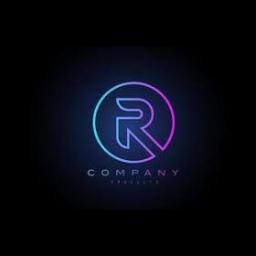r: (112, 96, 162, 154)
